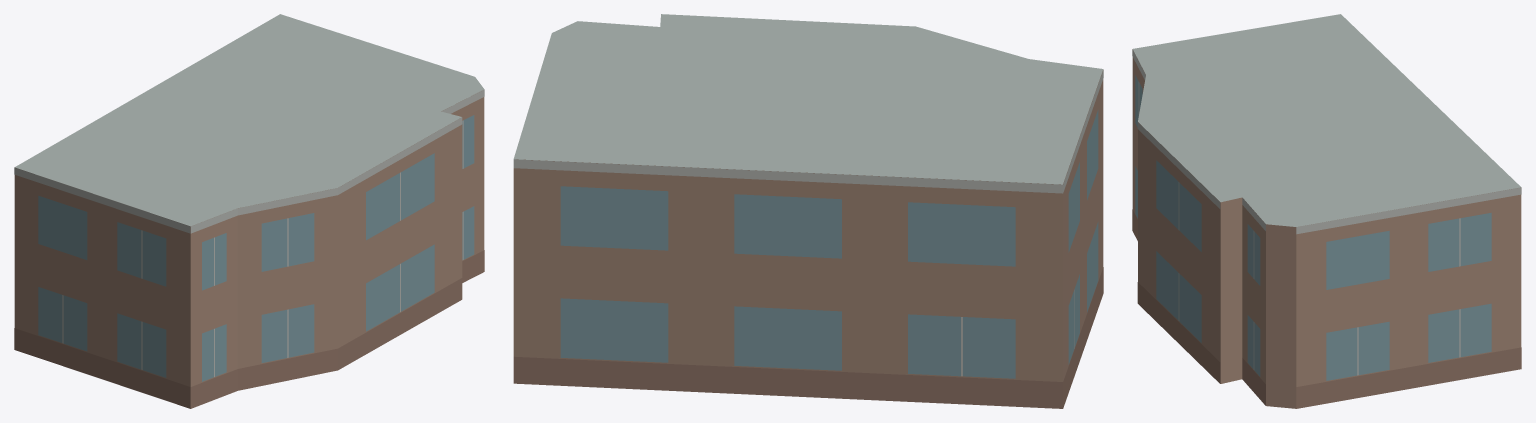
The model's file is survey-upis-32735113.glb.
3 views of the same model, side by side, from view 1: azimuth 30°, elevation 25°; view 2: azimuth 150°, elevation 25°; view 3: azimuth 270°, elevation 25° (orthographic). The views are drawn at different scales.
Visible parts, largest first — view 1: survey-upis-32735113.tmp; view 2: survey-upis-32735113.tmp; view 3: survey-upis-32735113.tmp.
Boxes of the visible parts, x1,y1,x2,y2 form: survey-upis-32735113.tmp: (14,14,484,408); survey-upis-32735113.tmp: (513,14,1103,408); survey-upis-32735113.tmp: (1132,14,1521,408).
Size of the model in its own units: 15.34 by 6.1 by 11.84.
